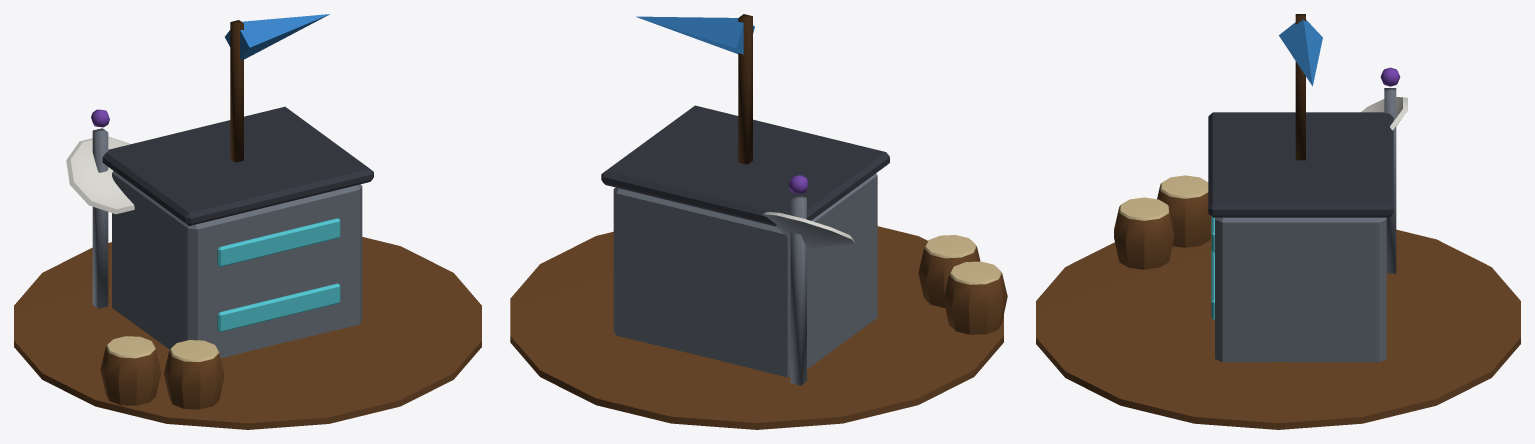
3 views of the same model, side by side, from view 1: azimuth 30°, elevation 25°; view 2: azimuth 150°, elevation 25°; view 3: azimuth 270°, elevation 25° (orthographic). The views are drawn at different scales.
Parts seen in each view (by area): view 1: vila_0_base, vila_1_torreta; view 2: vila_0_base, vila_1_torreta; view 3: vila_0_base, vila_1_torreta.
Boxes of the visible parts, x1=… form: vila_0_base: x1=14, y1=106, x2=481, y2=429; vila_1_torreta: x1=225, y1=14, x2=329, y2=162; vila_0_base: x1=510, y1=105, x2=1007, y2=429; vila_1_torreta: x1=636, y1=14, x2=754, y2=164; vila_0_base: x1=1036, y1=67, x2=1520, y2=429; vila_1_torreta: x1=1279, y1=14, x2=1322, y2=160.
Bounding box in the file's own units: 1.32 × 0.92 × 1.3.
